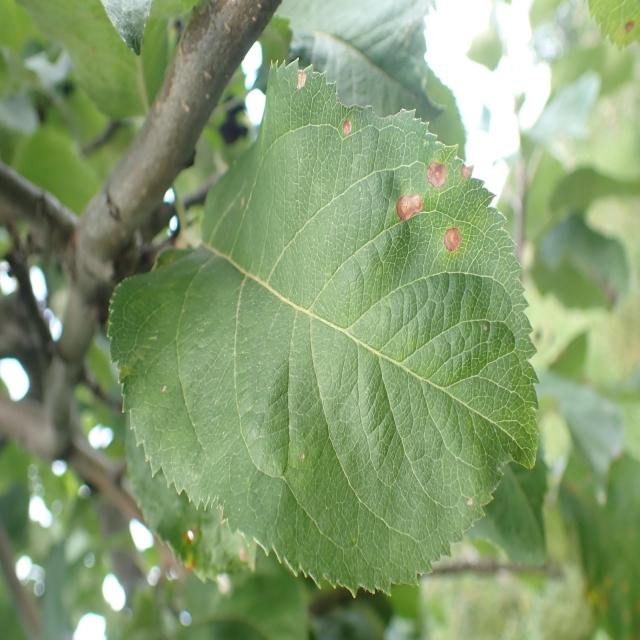Black Rot: (394, 180, 428, 241), (423, 141, 450, 212), (284, 48, 316, 106), (442, 213, 466, 290), (457, 142, 474, 212), (332, 113, 357, 139)
